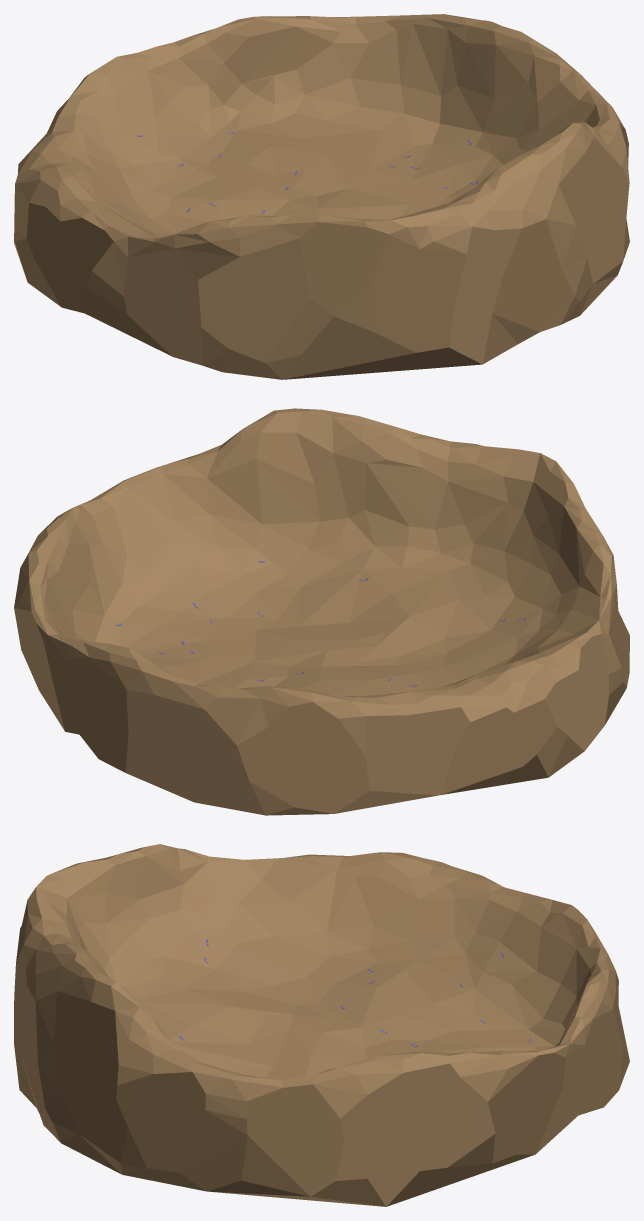
File: Training_third_0616.fbx
The picture shows the model from 3 angles, top to bottom: view 1: azimuth 30°, elevation 25°; view 2: azimuth 150°, elevation 25°; view 3: azimuth 270°, elevation 25°; orthographic projection.
Parts seen in each view (by area): view 1: Icosphere; view 2: Icosphere; view 3: Icosphere.
Part boxes in pixels (x1,y1,x2,y2): Icosphere: (14, 14, 629, 379); Icosphere: (14, 408, 629, 815); Icosphere: (14, 844, 629, 1206).
Bounding box in the file's own units: 21352 × 6590 × 20795.
